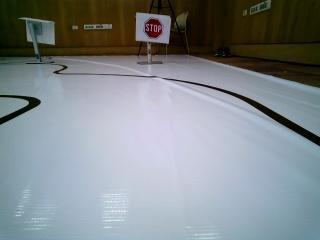stop: (135, 15, 169, 43)
